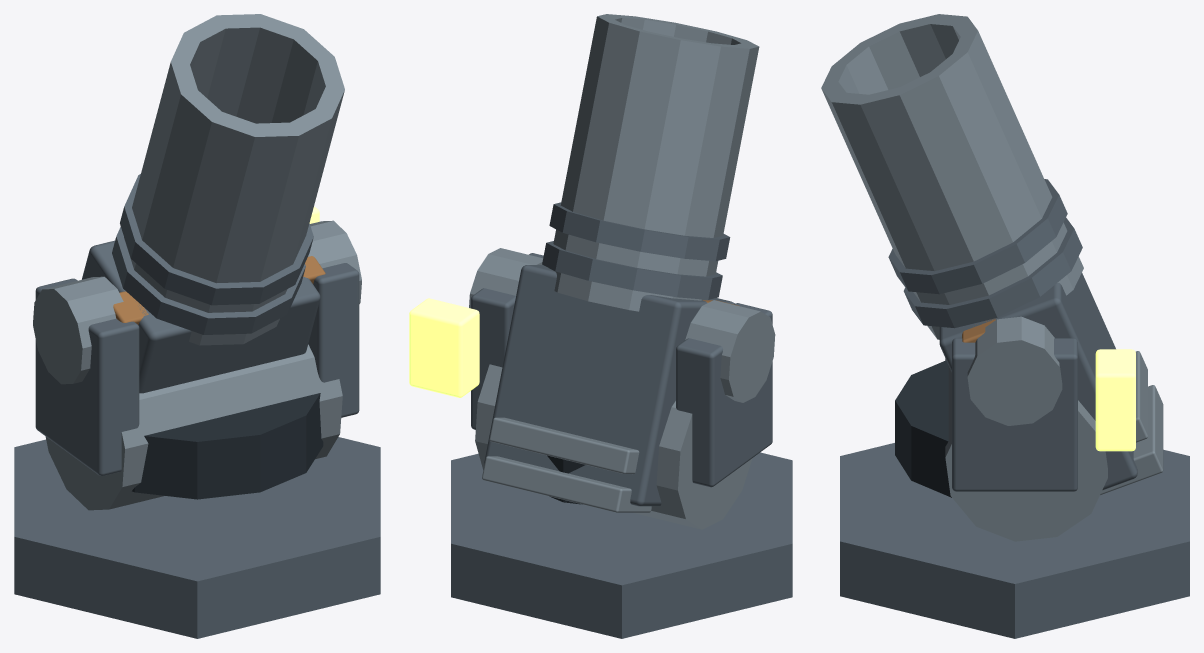
File: mortar_t1_d0.meshopt.glb
3 views of the same model, side by side, from view 1: azimuth 30°, elevation 25°; view 2: azimuth 150°, elevation 25°; view 3: azimuth 270°, elevation 25° (orthographic). The views are drawn at different scales.
Visible parts, largest first — view 1: RECOIL_ARMOR_GEOMETRY, BASE_ARMOR_GEOMETRY, YAW_ARMOR_GEOMETRY; view 2: RECOIL_ARMOR_GEOMETRY, BASE_ARMOR_GEOMETRY, YAW_ARMOR_GEOMETRY, YAW_SIGNAL_GEOMETRY; view 3: RECOIL_ARMOR_GEOMETRY, BASE_ARMOR_GEOMETRY, YAW_ARMOR_GEOMETRY, YAW_SIGNAL_GEOMETRY.
Boxes of the visible parts, <box> form: RECOIL_ARMOR_GEOMETRY: <box>33,14,361,510</box>; BASE_ARMOR_GEOMETRY: <box>14,437,380,638</box>; YAW_ARMOR_GEOMETRY: <box>35,263,359,499</box>; RECOIL_ARMOR_GEOMETRY: <box>469,14,775,529</box>; BASE_ARMOR_GEOMETRY: <box>451,452,792,638</box>; YAW_ARMOR_GEOMETRY: <box>471,253,772,504</box>; YAW_SIGNAL_GEOMETRY: <box>409,298,479,397</box>; RECOIL_ARMOR_GEOMETRY: <box>821,14,1163,541</box>; BASE_ARMOR_GEOMETRY: <box>840,443,1189,638</box>; YAW_ARMOR_GEOMETRY: <box>895,338,1077,497</box>; YAW_SIGNAL_GEOMETRY: <box>1095,349,1135,451</box>.
Size of the model in its own units: 1.6 by 2.29 by 1.46.
